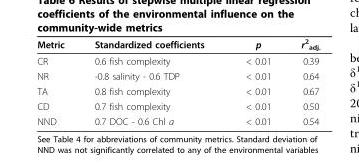table: (36, 36, 319, 126)
table column: (78, 36, 224, 126), (224, 36, 285, 126), (36, 36, 78, 126), (285, 36, 319, 126)
table column header: (36, 36, 319, 52)
table row: (36, 36, 319, 52), (36, 52, 319, 68), (36, 68, 319, 83), (36, 83, 319, 98), (36, 98, 319, 113), (36, 113, 319, 126)
